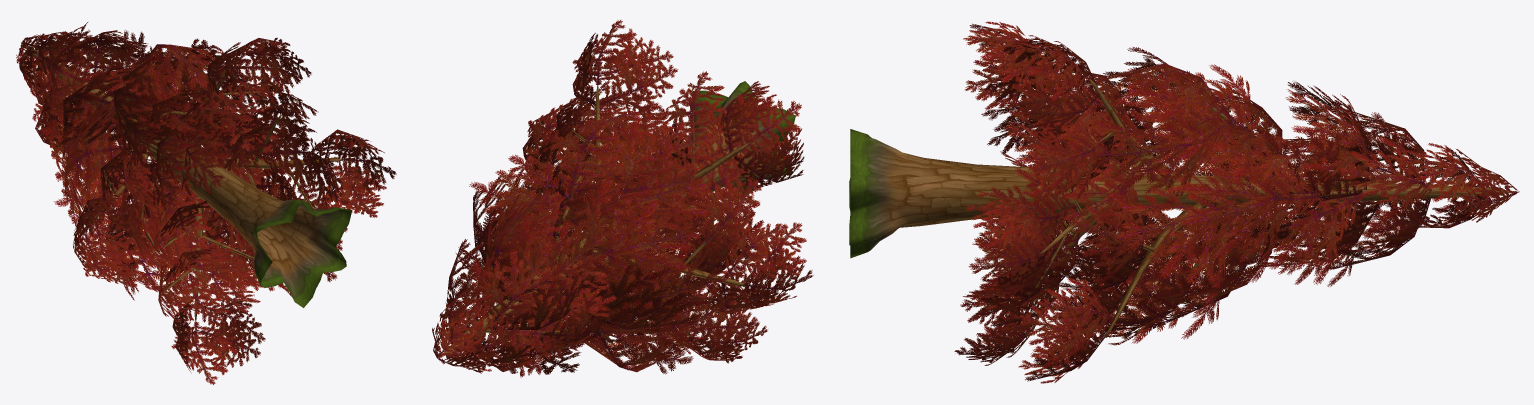
The model's file is pine_tree_4_LOD.fbx.
3 views of the same model, side by side, from view 1: azimuth 30°, elevation 25°; view 2: azimuth 150°, elevation 25°; view 3: azimuth 270°, elevation 25° (orthographic). The views are drawn at different scales.
Parts seen in each view (by area): view 1: Pine_tree1_LOD0; view 2: Pine_tree1_LOD0; view 3: Pine_tree1_LOD0.
Part boxes in pixels (<box>): Pine_tree1_LOD0: <box>16,22,396,384</box>; Pine_tree1_LOD0: <box>432,20,813,377</box>; Pine_tree1_LOD0: <box>849,21,1519,383</box>.
Size of what is drawn, in the model's own units: 1165 by 1184 by 1939.
